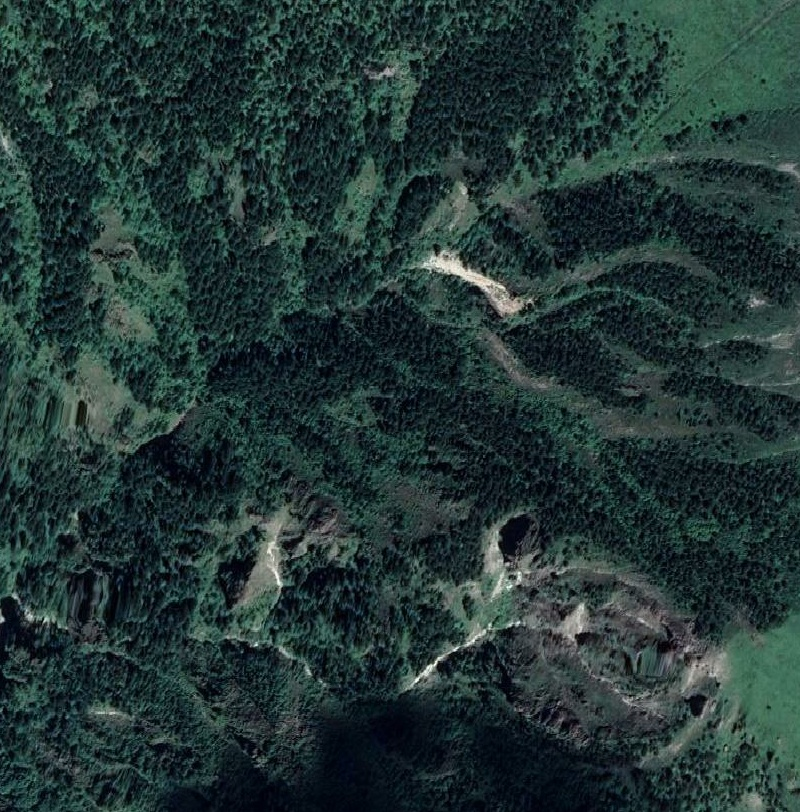slope: (421, 244, 530, 320)
